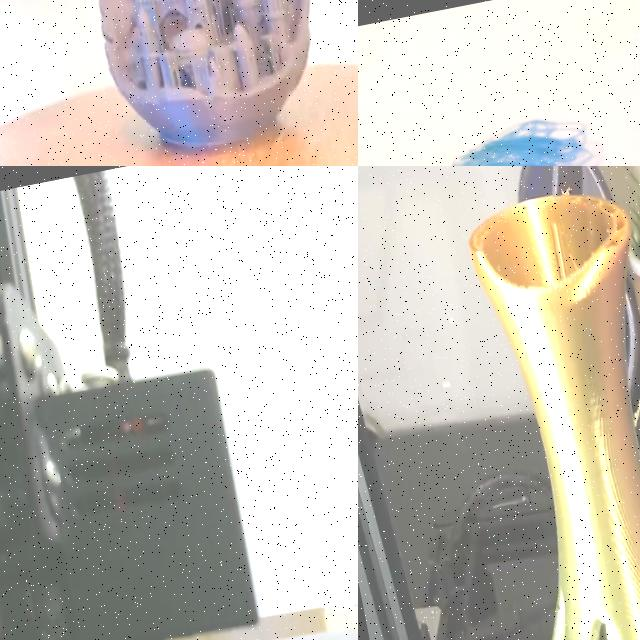spaghetti: (358, 97, 640, 166)
